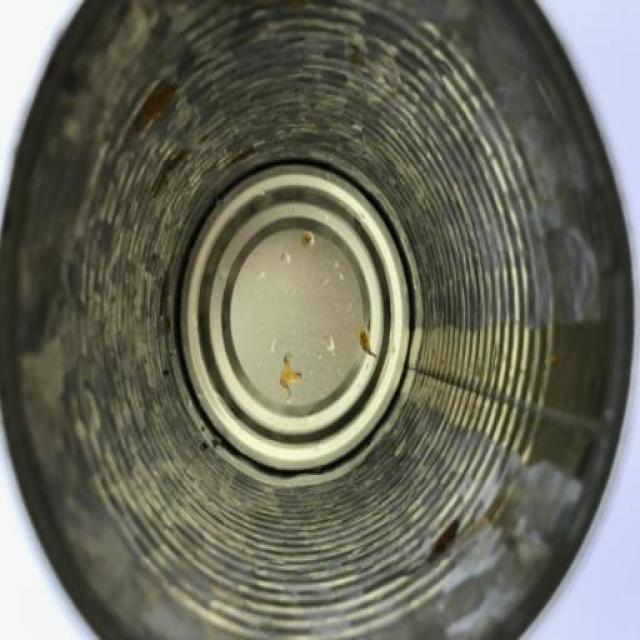metel: (46, 10, 556, 630)
